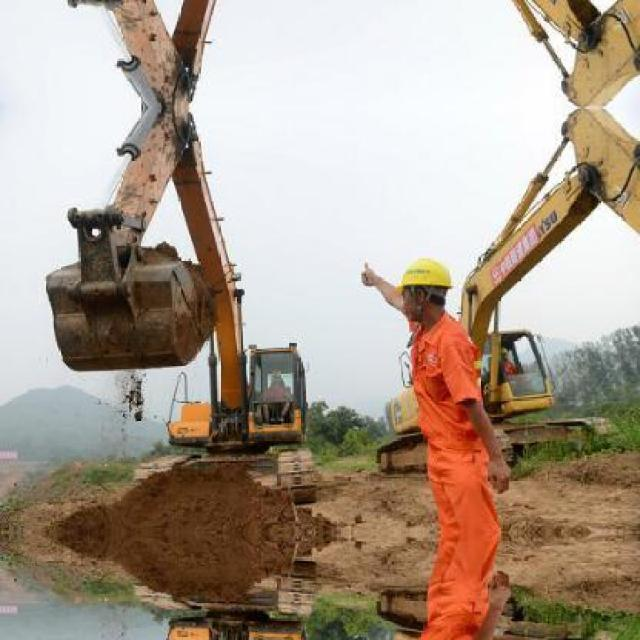helmet: (389, 246, 457, 329)
